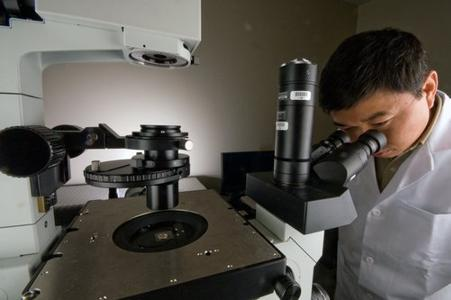person: (320, 26, 450, 297)
